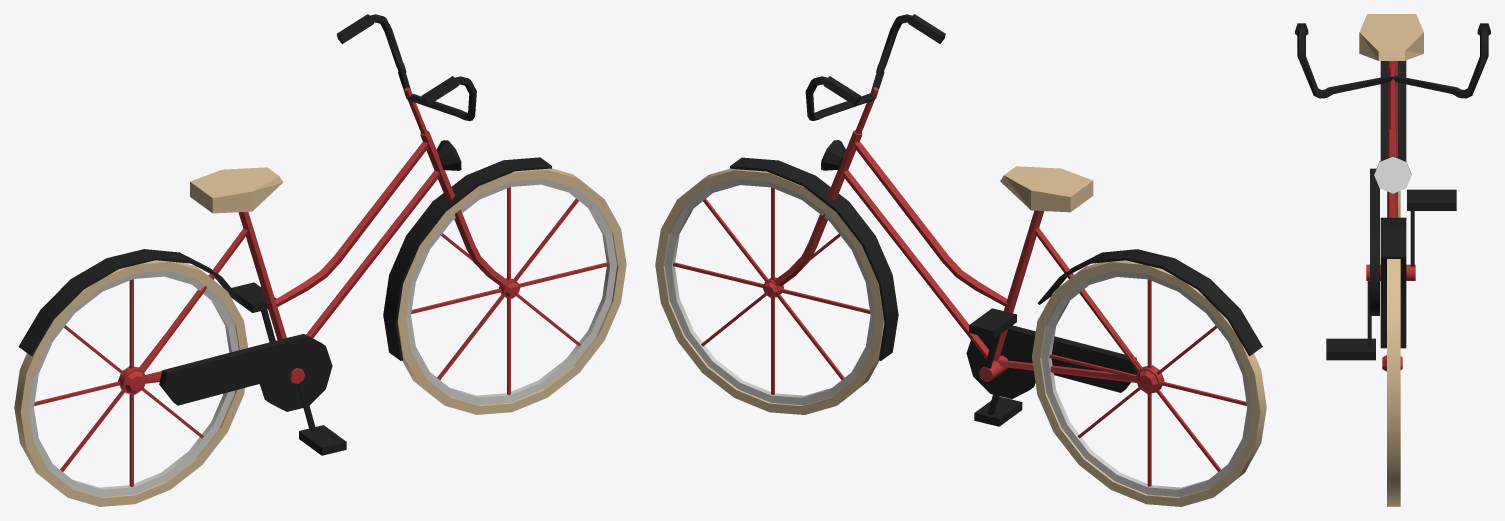
The model's file is SM_bike_red.fbx.
3 renders of one model, left to right at view 1: azimuth 30°, elevation 25°; view 2: azimuth 150°, elevation 25°; view 3: azimuth 270°, elevation 25°, orthographic. The views are drawn at different scales.
Parts seen in each view (by area): view 1: Box108; view 2: Box108; view 3: Box108.
Boxes of the visible parts, <box> form: Box108: <box>14,14,626,506</box>; Box108: <box>655,14,1266,506</box>; Box108: <box>1295,14,1490,506</box>.
Bounding box in the file's own units: 101 × 26.31 × 61.8.
